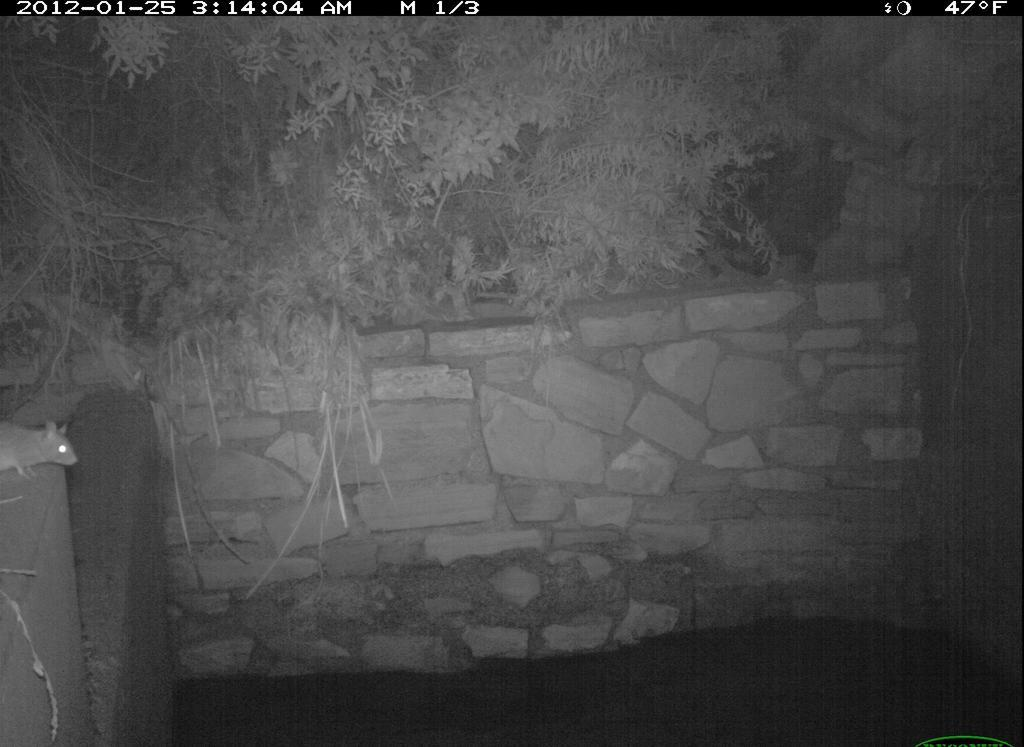rodent: (7, 415, 90, 496)
